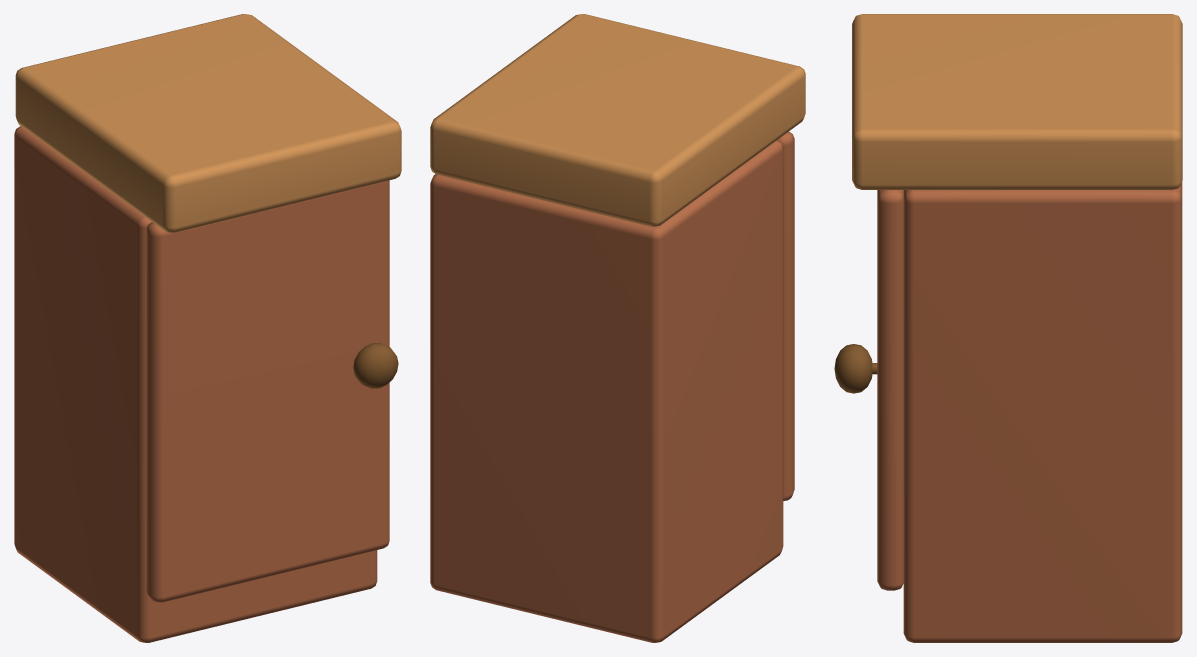
File: SM_cabinet_Left.glb
3 views of the same model, side by side, from view 1: azimuth 30°, elevation 25°; view 2: azimuth 150°, elevation 25°; view 3: azimuth 270°, elevation 25° (orthographic). The views are drawn at different scales.
Visible parts, largest first — view 1: SM_cabinet_Left; view 2: SM_cabinet_Left; view 3: SM_cabinet_Left.
Part boxes in pixels (box(x1,y1,x2,y2)): SM_cabinet_Left: box(14, 14, 401, 642); SM_cabinet_Left: box(430, 14, 805, 642); SM_cabinet_Left: box(834, 14, 1182, 642).
Size of the model in its own units: 0.564 by 1.09 by 0.6715.
Materials: 1 (1 with a texture image).
